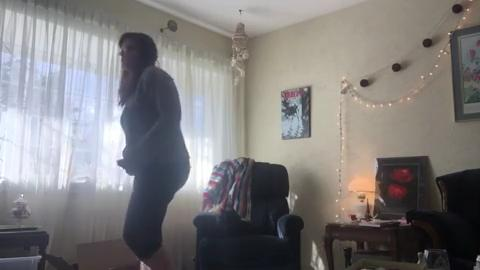blanket: (200, 157, 252, 222)
light: (333, 1, 475, 223), (347, 175, 379, 216)
person: (116, 32, 189, 269)
picture: (375, 156, 425, 218), (447, 26, 479, 120), (280, 86, 310, 140)
sofa_couch: (193, 162, 304, 269), (407, 170, 480, 269)
table_desk: (324, 222, 417, 269), (1, 223, 49, 269)
